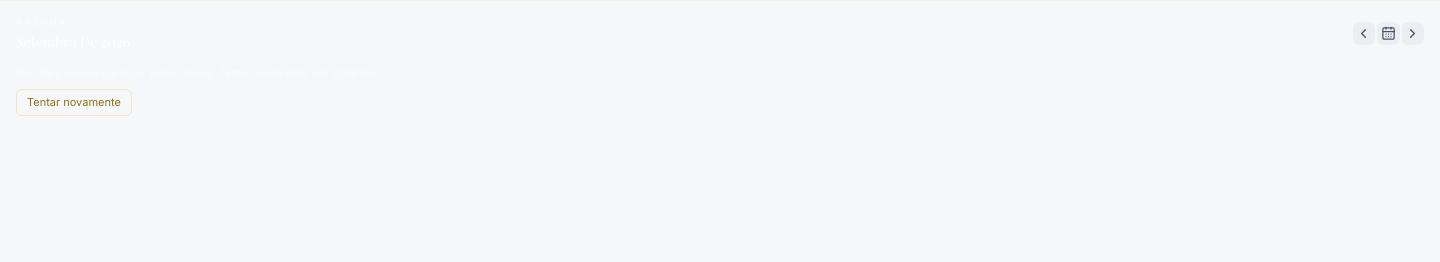
Test: AgendaSidebar — calendário da agenda na sidebar › mostra erro com 'Tentar novamente' e recarrega ao clicar
Check: the message is shown, box [16,66,381,116]
Click the button "Tentar novamente".
click(74, 103)  # box [16,89,132,116]
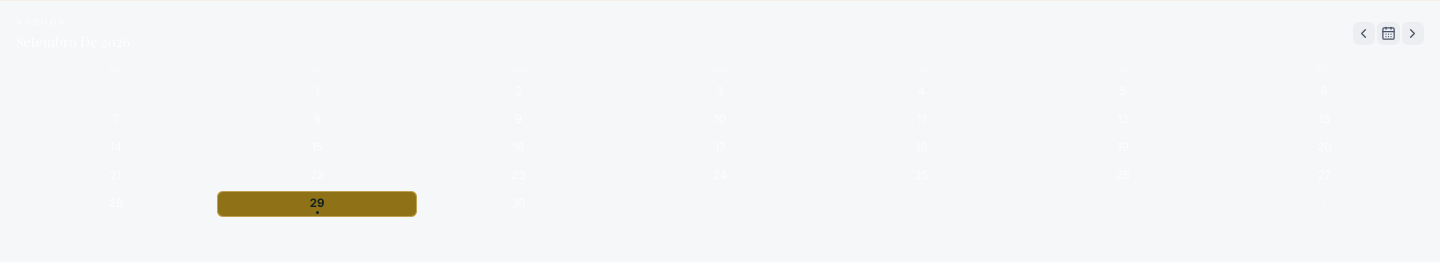
Check: the table named "Calendário do mês" is shown
